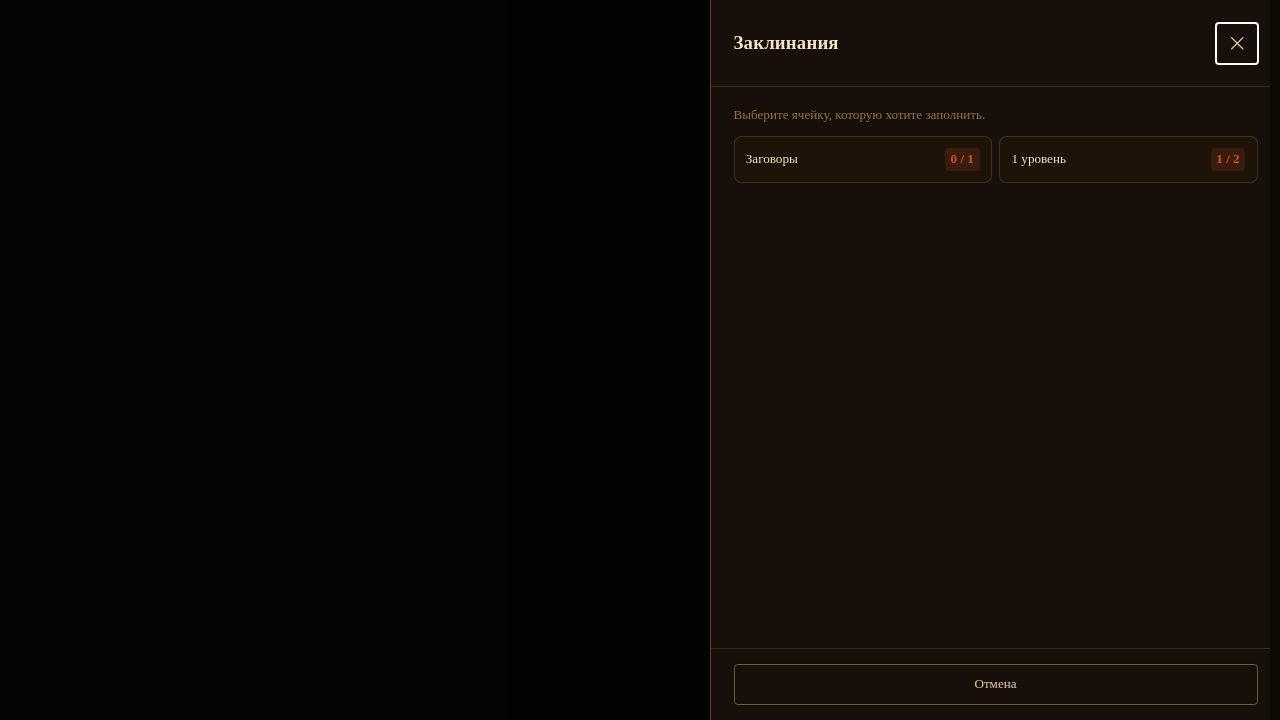
Test case: Character spell selection › excludes known and unavailable spells, respects capacity and refreshes learned spells
Click the button "1 уровень 1 / 2" at coordinates (1128, 160), box [999,136,1258,183]
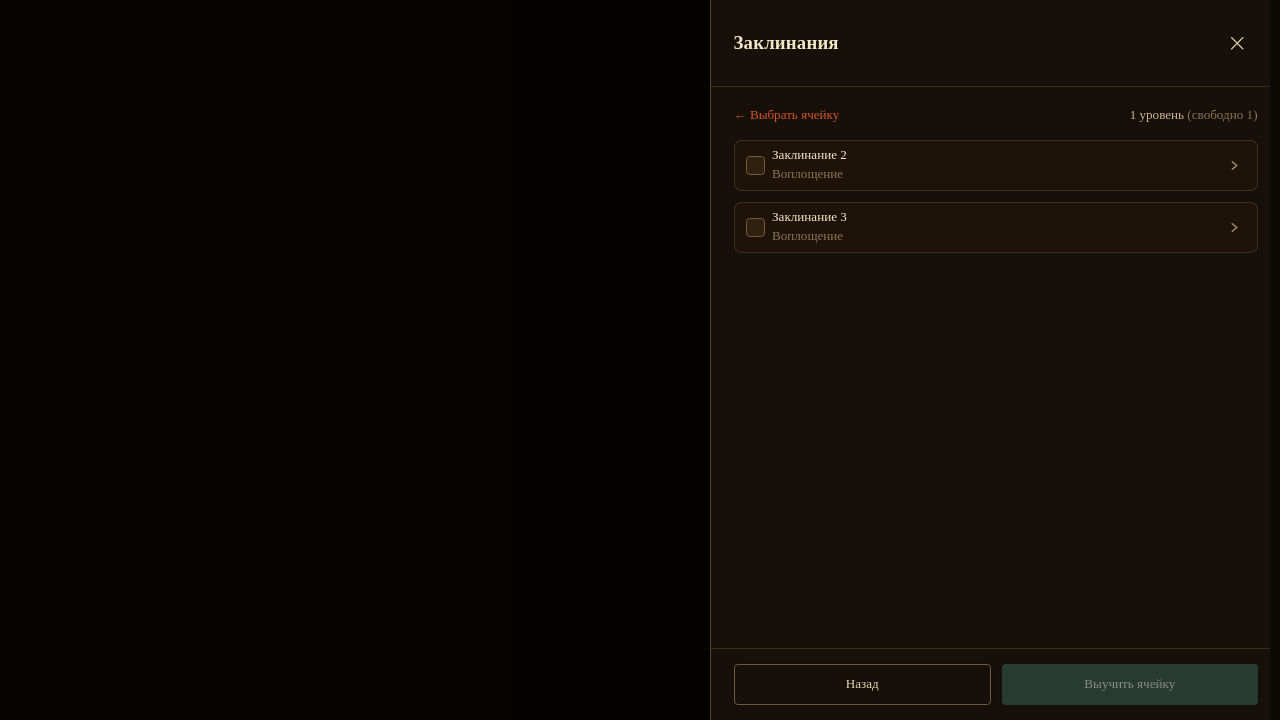
Click the checkbox named "Заклинание 2" at coordinates (755, 165), box [746,156,765,175]
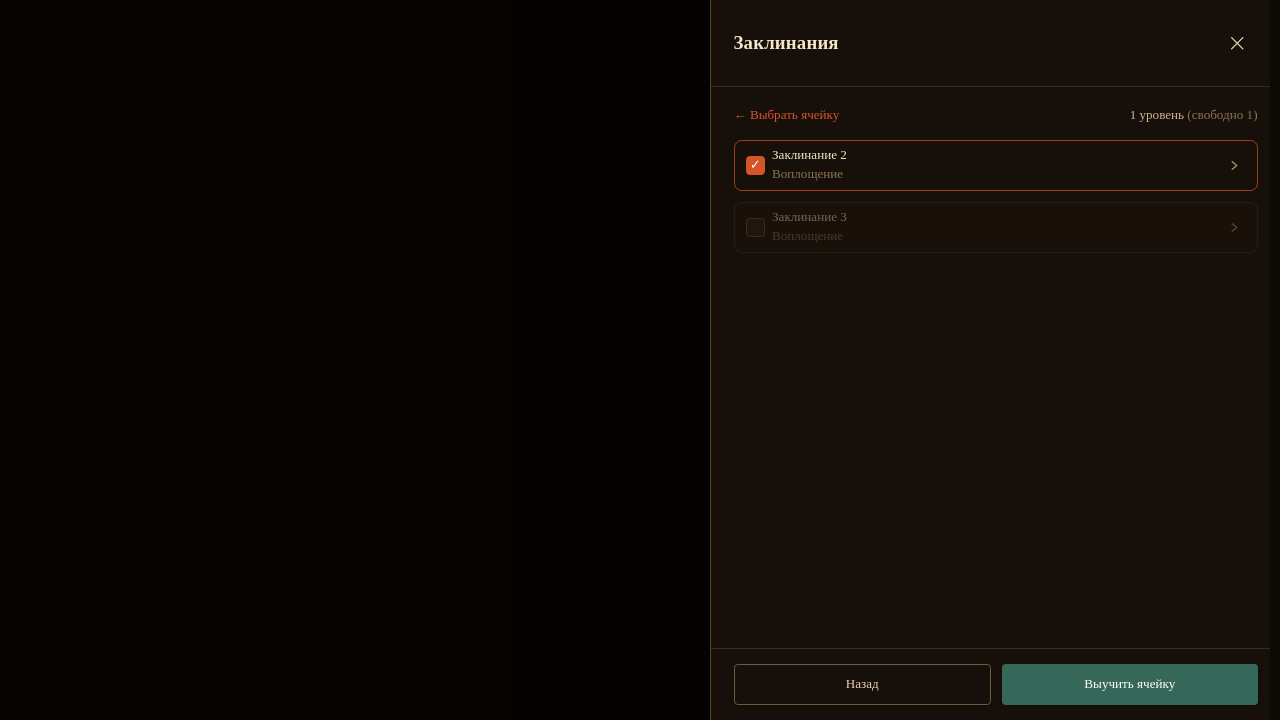
Result: the checkbox named "Заклинание 3" is disabled at [746,218,765,237]
Click the button "Выучить ячейку" at coordinates (1130, 684), box [1002,664,1258,705]
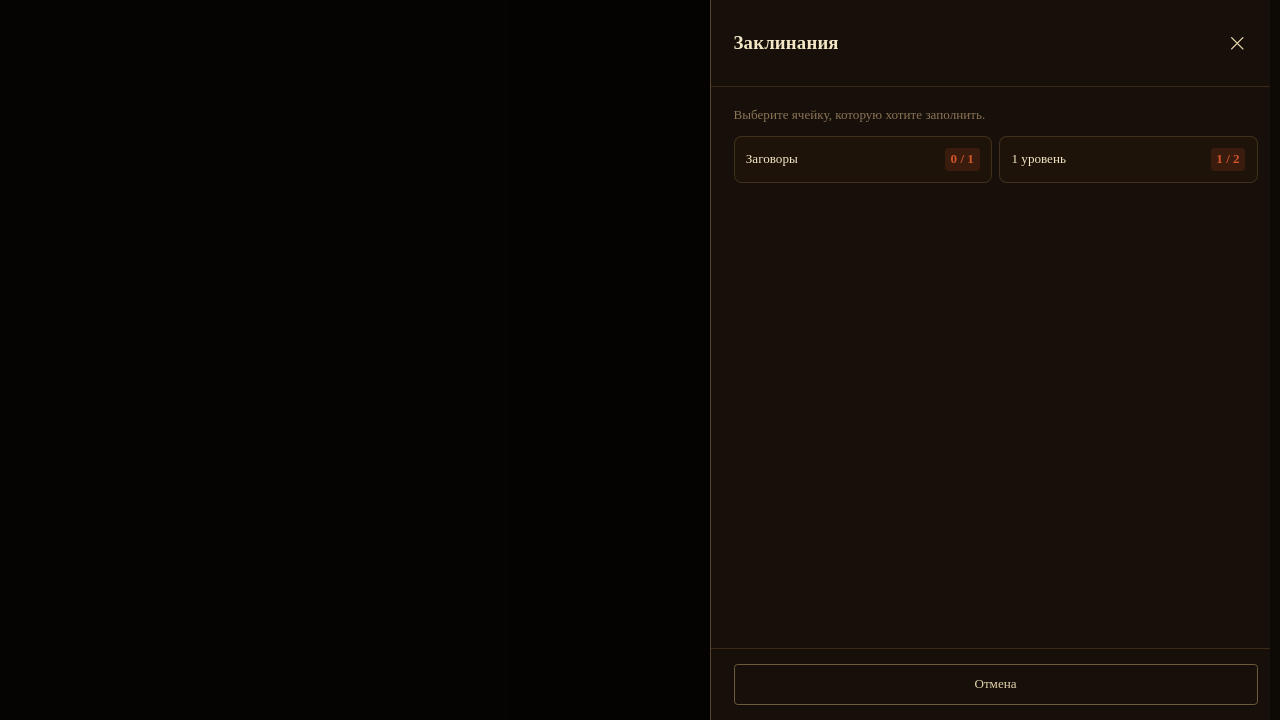
Result: the button "1 уровень 1 / 2" is shown at [999,136,1258,183]
